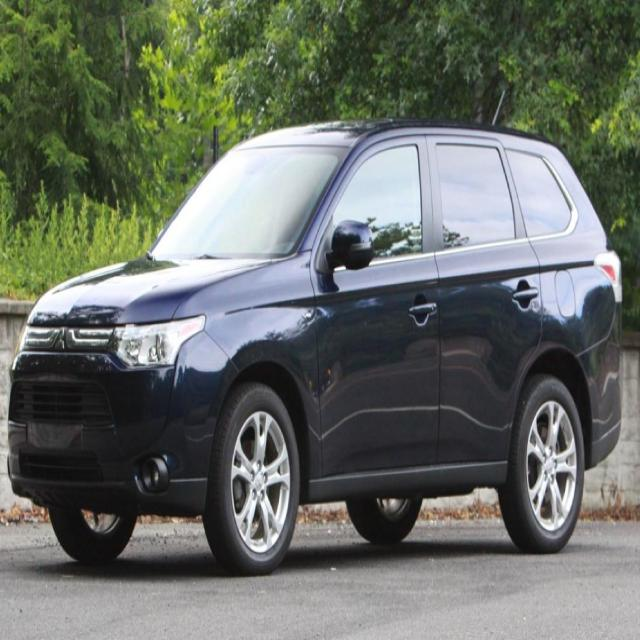light_vehicle: (5, 119, 623, 576)
